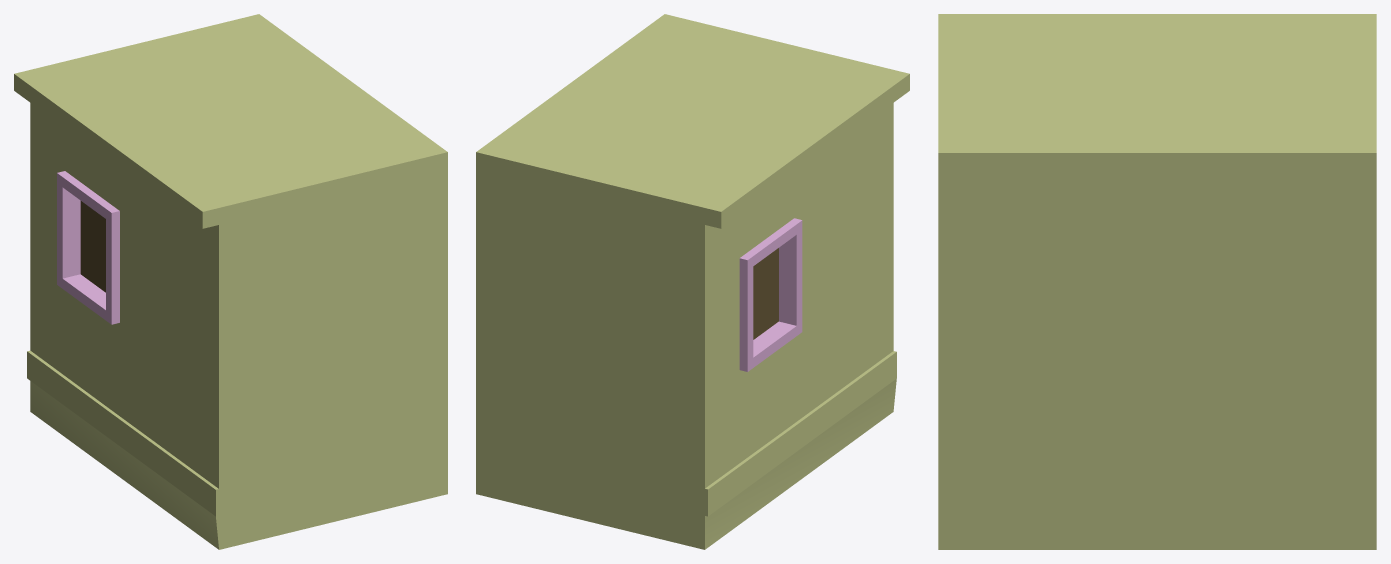
File: wallupper.fbx
3 views of the same model, side by side, from view 1: azimuth 30°, elevation 25°; view 2: azimuth 150°, elevation 25°; view 3: azimuth 270°, elevation 25° (orthographic). The views are drawn at different scales.
Visible parts, largest first — view 1: Cube; view 2: Cube; view 3: Cube.
Part boxes in pixels (x1,y1,x2,y2): Cube: [14, 14, 447, 549]; Cube: [476, 14, 909, 549]; Cube: [938, 14, 1376, 549].
Bounding box in the file's own units: 150 × 200 × 200.
